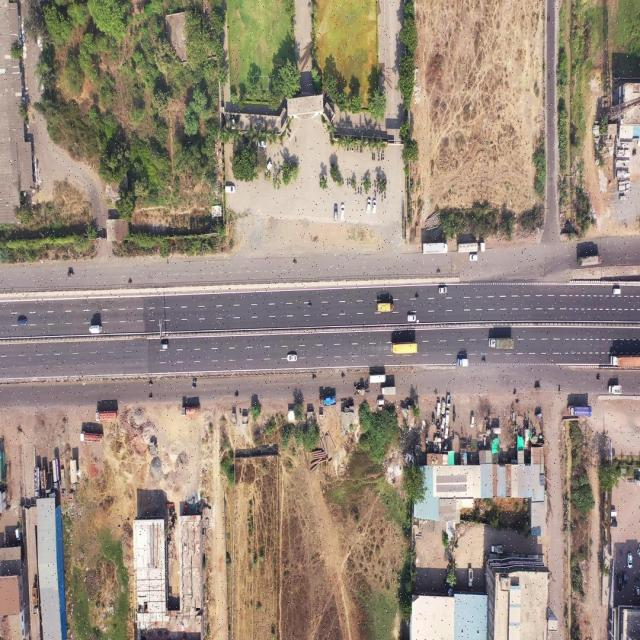3W: (491, 427, 501, 436), (535, 412, 542, 420), (534, 385, 540, 391), (67, 272, 73, 277)
Bus: (369, 374, 386, 384)
Cars: (617, 574, 622, 592), (287, 354, 298, 362), (627, 552, 632, 569), (366, 198, 371, 214), (407, 314, 417, 322), (15, 528, 21, 541), (635, 585, 640, 600), (258, 140, 267, 148), (334, 204, 338, 222), (469, 254, 478, 262), (610, 519, 618, 528), (225, 186, 235, 193), (17, 319, 27, 326), (438, 287, 448, 294), (161, 343, 169, 351), (436, 402, 440, 418), (442, 400, 446, 416), (470, 413, 474, 428), (444, 424, 448, 439), (372, 200, 376, 214), (613, 288, 621, 295), (610, 509, 617, 517), (623, 572, 627, 585), (341, 203, 344, 220), (266, 162, 272, 170), (378, 398, 384, 406), (637, 547, 640, 558)
LCV: (88, 325, 102, 335), (608, 386, 622, 394), (491, 545, 503, 554), (468, 567, 473, 587), (446, 394, 451, 408)
M2W: (292, 259, 298, 266), (436, 270, 441, 276), (632, 150, 637, 156), (287, 132, 291, 138), (514, 388, 517, 396), (597, 374, 600, 382), (381, 191, 383, 202), (360, 186, 362, 196), (272, 172, 274, 182), (308, 304, 312, 309), (482, 358, 486, 363), (384, 191, 386, 200), (346, 177, 348, 186), (342, 177, 344, 186), (372, 152, 374, 161), (374, 152, 376, 161), (380, 153, 382, 162), (559, 386, 561, 395), (376, 185, 378, 193), (374, 189, 376, 197), (374, 180, 376, 188), (357, 186, 359, 194), (264, 172, 266, 180), (360, 146, 362, 154), (378, 154, 380, 162), (128, 280, 132, 284), (415, 295, 419, 299), (341, 375, 345, 379), (235, 394, 239, 398), (192, 386, 197, 389), (275, 173, 277, 180), (382, 154, 384, 161), (379, 146, 381, 153), (346, 146, 348, 152), (350, 146, 352, 152), (312, 376, 316, 379), (192, 380, 196, 383), (149, 383, 153, 386), (149, 396, 153, 399), (352, 147, 354, 152), (355, 187, 356, 196), (349, 176, 350, 185), (379, 190, 380, 196), (357, 146, 358, 152), (362, 178, 362, 185)
MAV: (610, 354, 640, 368), (422, 242, 449, 255), (80, 432, 102, 446), (52, 457, 61, 490), (458, 242, 486, 252), (33, 466, 42, 497), (96, 409, 117, 422), (31, 586, 40, 616), (182, 406, 202, 417)
Truck: (488, 337, 514, 350), (578, 255, 602, 268), (392, 342, 418, 354), (567, 406, 592, 418), (380, 386, 396, 396), (377, 303, 394, 312), (319, 396, 336, 405), (457, 358, 468, 369)
